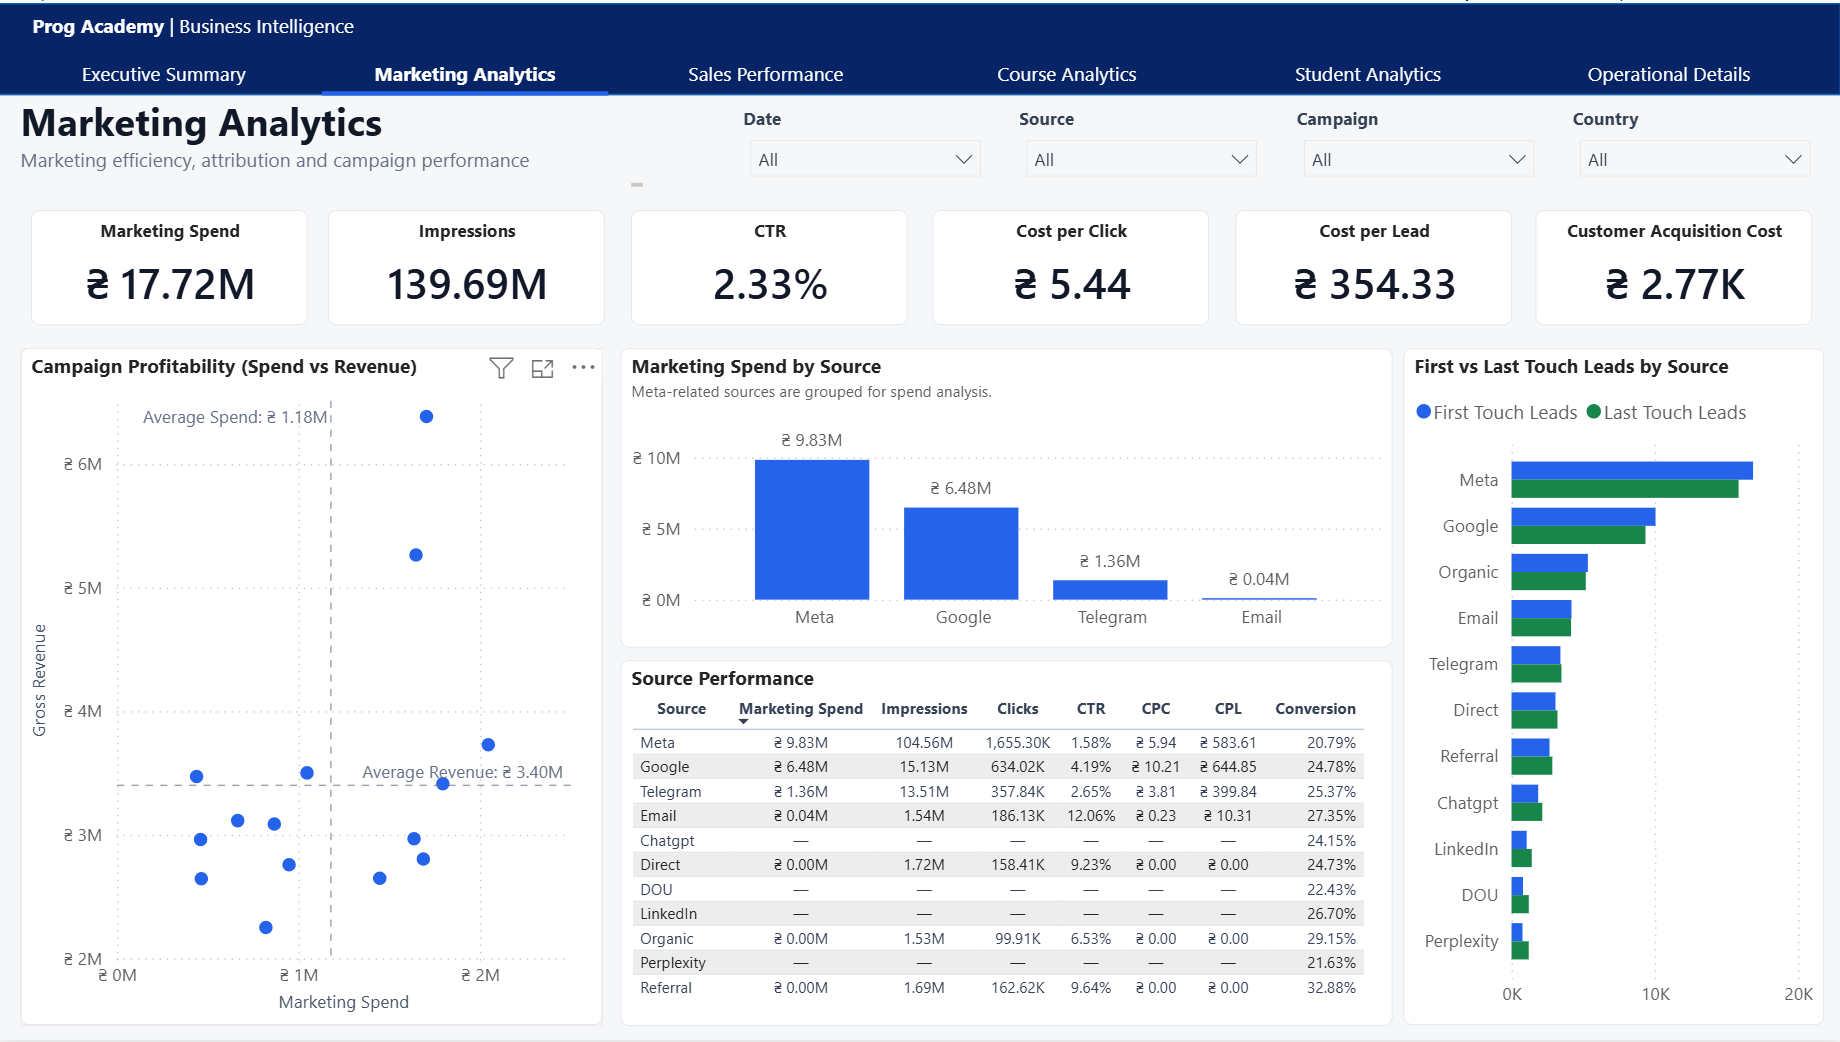

The page's visual inventory and layout, read from the dashboard file:
{"tool":"powerbi","page":{"name":"Marketing Analytics","canvas":[1280,720],"ordinal":1},"visuals":[{"type":"shape","box":[0,0,1280,64],"z":0},{"type":"textbox","box":[24,6,260,28],"z":1000},{"type":"slicer","title":"Date","fields":{"Values":["DimDate.Year","DimDate.MonthName"]},"box":[512,72,180,60],"z":2000},{"type":"slicer","title":"Country","fields":{"Values":["DimGeography.CountryNormalized"]},"box":[1088,72,180,60],"z":3000},{"type":"slicer","title":"Source","fields":{"Values":["DimMarketingSource.SourceDisplayName"]},"box":[704,72,180,60],"z":4000},{"type":"slicer","title":"Campaign","fields":{"Values":["DimCampaign.CampaignDisplayName"]},"box":[896,72,180,60],"z":5000},{"type":"cardVisual","title":"Marketing Spend","fields":{"Data":["_Measures.Marketing Spend"]},"box":[23,143.8,192,80],"z":6000},{"type":"cardVisual","title":"Impressions","fields":{"Data":["_Measures.Impressions"]},"box":[229,144,192,80],"z":7000},{"type":"cardVisual","title":"CTR","fields":{"Data":["_Measures.CTR"]},"box":[439,143.8,192,80],"z":8000},{"type":"cardVisual","title":"Cost per Click","fields":{"Data":["_Measures.Cost per Click"]},"box":[649,144,192,80],"z":9000},{"type":"cardVisual","title":"Cost per Lead","fields":{"Data":["_Measures.Cost per Lead"]},"box":[859,144,192,80],"z":10000},{"type":"cardVisual","title":"Customer Acquisition Cost","fields":{"Data":["_Measures.Customer Acquisition Cost"]},"box":[1067,144,192,80],"z":11000},{"type":"clusteredColumnChart","title":"Marketing Spend by Source","fields":{"Category":["DimMarketingSource.SourceDisplayName"],"Y":["_Measures.Marketing Spend"]},"box":[430,240.5,536,224],"z":12000},{"type":"scatterChart","title":"Campaign Profitability (Spend vs Revenue)","fields":{"Category":["DimCampaign.CampaignDisplayName"],"Series":["DimCampaign.CampaignDisplayName"],"X":["_Measures.Marketing Spend"],"Y":["_Measures.Gross Revenue"]},"box":[16,240,404,464],"z":13000},{"type":"tableEx","title":"Source Performance","fields":{"Values":["DimMarketingSource.SourceDisplayName","_Measures.Marketing Spend Display","_Measures.Impressions Display","_Measures.Clicks Display","_Measures.CTR Display","_Measures.Cost per Click Display","_Measures.Cost per Lead Display","_Measures.Manager Conversion Rate"]},"box":[430,472,536,232],"z":14000},{"type":"clusteredBarChart","title":"First vs Last Touch Leads by Source","fields":{"Category":["DimMarketingSource.SourceDisplayName"],"Y":["_Measures.First Touch Leads","_Measures.Last Touch Leads"]},"box":[976,240,292,464],"z":15000},{"type":"pageNavigator","box":[16,32,1248,32],"z":16000},{"type":"textbox","title":"Marketing Analytics","box":[16,64,432,64],"z":17000}]}

Visuals, with their boxes on the page's 1280x720 design canvas (x1, y1, x2, y2). These are canvas units, not pixel positions in the 1840x1042 screenshot, which may show the page scaled, cropped or inside an application window:
shape: [0, 0, 1280, 64]
textbox: [24, 6, 284, 34]
"Date" slicer: [512, 72, 692, 132]
"Country" slicer: [1088, 72, 1268, 132]
"Source" slicer: [704, 72, 884, 132]
"Campaign" slicer: [896, 72, 1076, 132]
"Marketing Spend" cardVisual: [23, 144, 215, 224]
"Impressions" cardVisual: [229, 144, 421, 224]
"CTR" cardVisual: [439, 144, 631, 224]
"Cost per Click" cardVisual: [649, 144, 841, 224]
"Cost per Lead" cardVisual: [859, 144, 1051, 224]
"Customer Acquisition Cost" cardVisual: [1067, 144, 1259, 224]
"Marketing Spend by Source" clusteredColumnChart: [430, 240, 966, 464]
"Campaign Profitability (Spend vs Revenue)" scatterChart: [16, 240, 420, 704]
"Source Performance" tableEx: [430, 472, 966, 704]
"First vs Last Touch Leads by Source" clusteredBarChart: [976, 240, 1268, 704]
pageNavigator: [16, 32, 1264, 64]
"Marketing Analytics" textbox: [16, 64, 448, 128]
